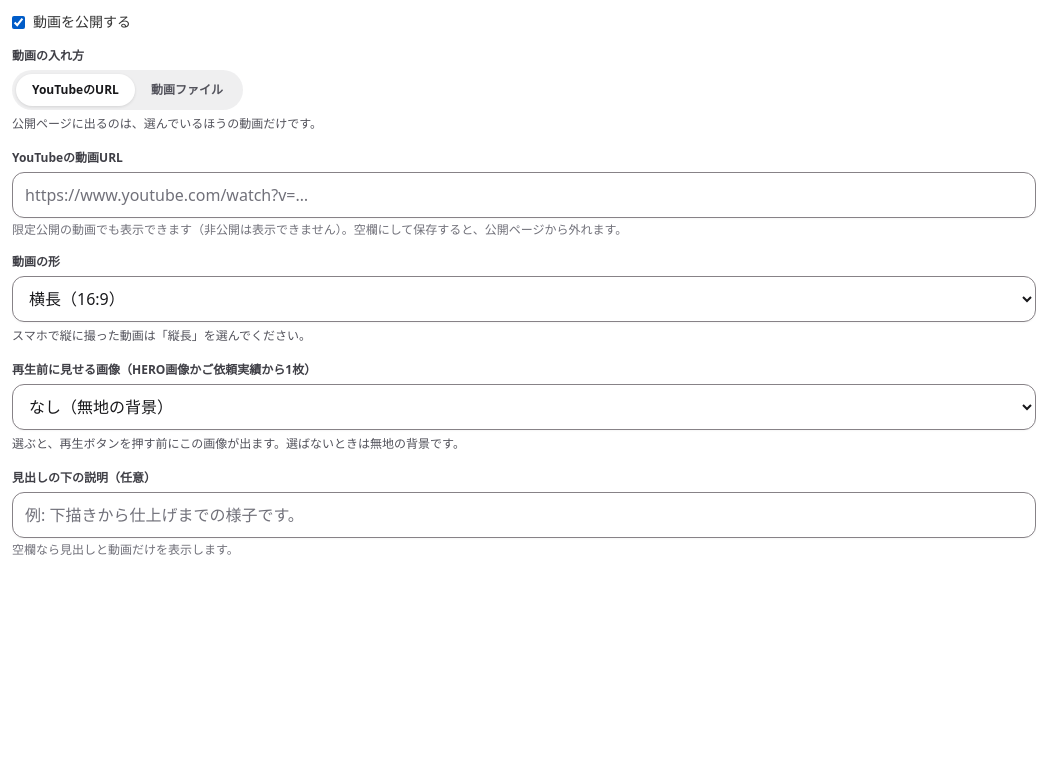
Test: PortfolioProcessVideoEditor 動画ファイル › 動画ファイルがまだないときは、選ぶボタンと形式・大きさの案内を出す
Click the button "動画ファイル": (187, 90) top-left (135, 74), bottom-right (239, 106)
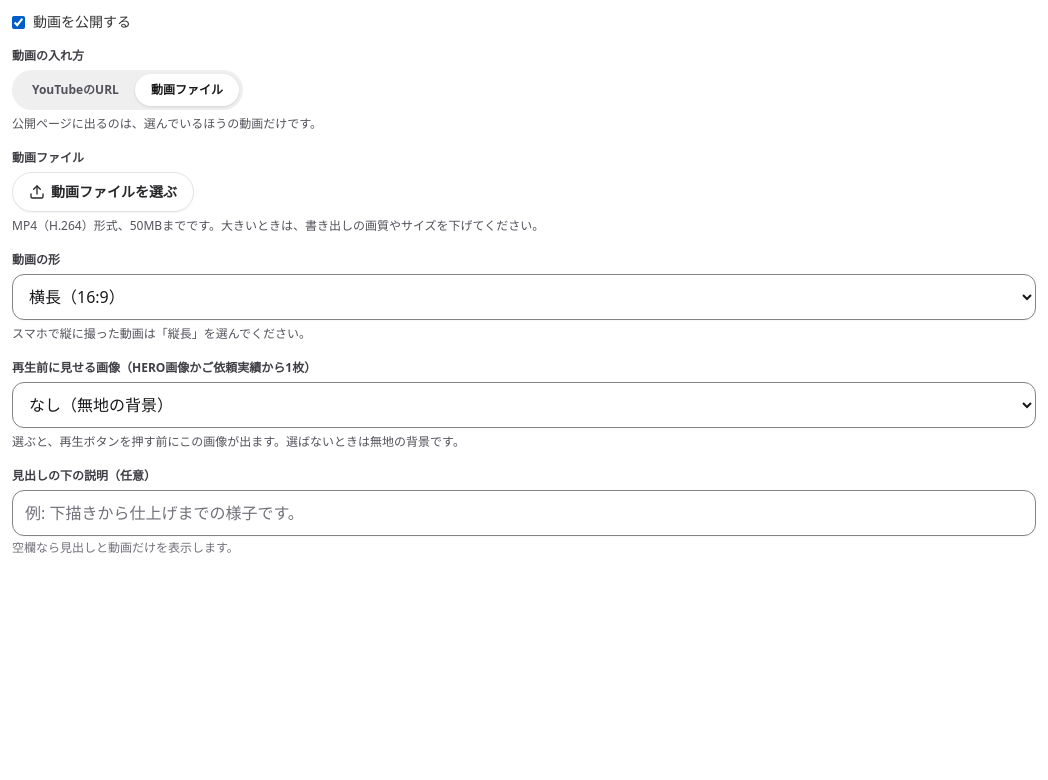
Result: the button "動画ファイルを選ぶ" is shown at top-left (12, 172), bottom-right (194, 212)
Result: the text "MP4（H.264）形式、50MBまでです。大きいときは、書き出しの画質やサイズを下げてください。" is shown at top-left (12, 217), bottom-right (544, 234)
